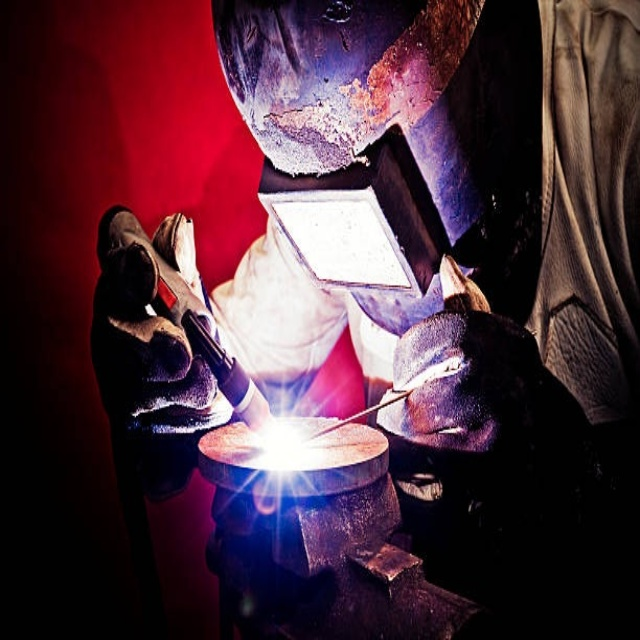Guantes: (376, 257, 587, 519), (91, 207, 248, 450)
